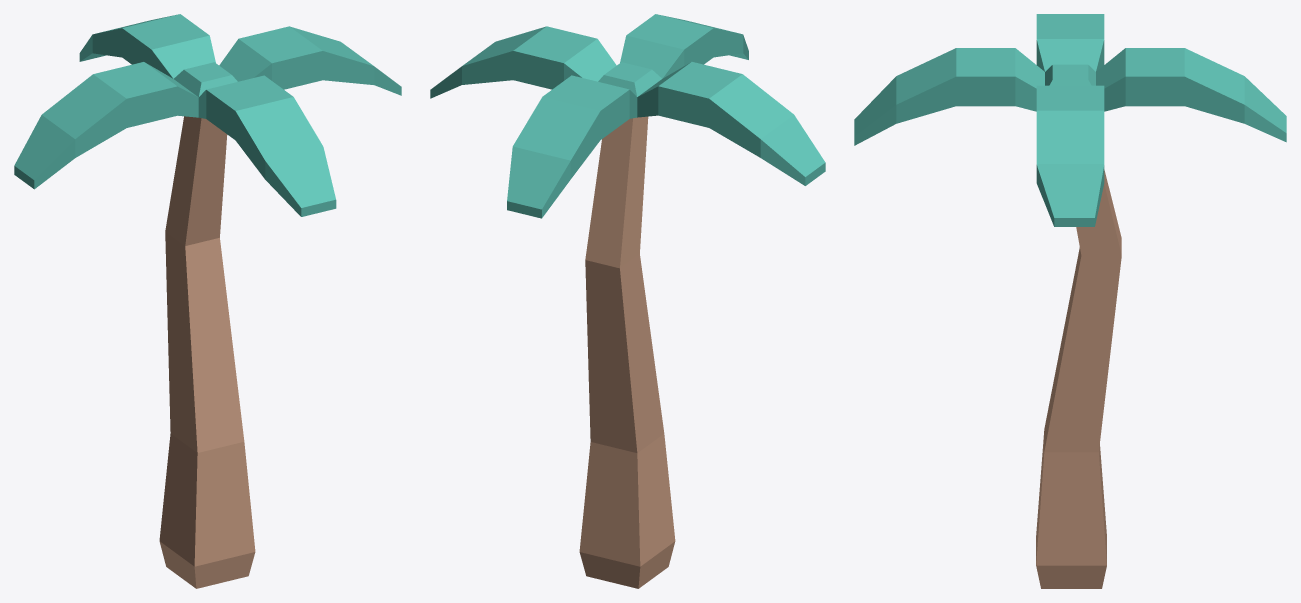
The model's file is tree_palmTall.glb.
3 views of the same model, side by side, from view 1: azimuth 30°, elevation 25°; view 2: azimuth 150°, elevation 25°; view 3: azimuth 270°, elevation 25° (orthographic).
Visible parts, largest first — view 1: tree_palmTall; view 2: tree_palmTall; view 3: tree_palmTall.
Boxes of the visible parts, box(x1,y1,x2,y2) form: tree_palmTall: box(14, 14, 401, 588); tree_palmTall: box(430, 14, 825, 588); tree_palmTall: box(854, 14, 1286, 588).
Bounding box in the file's own units: 1.03 × 1.36 × 1.03.
